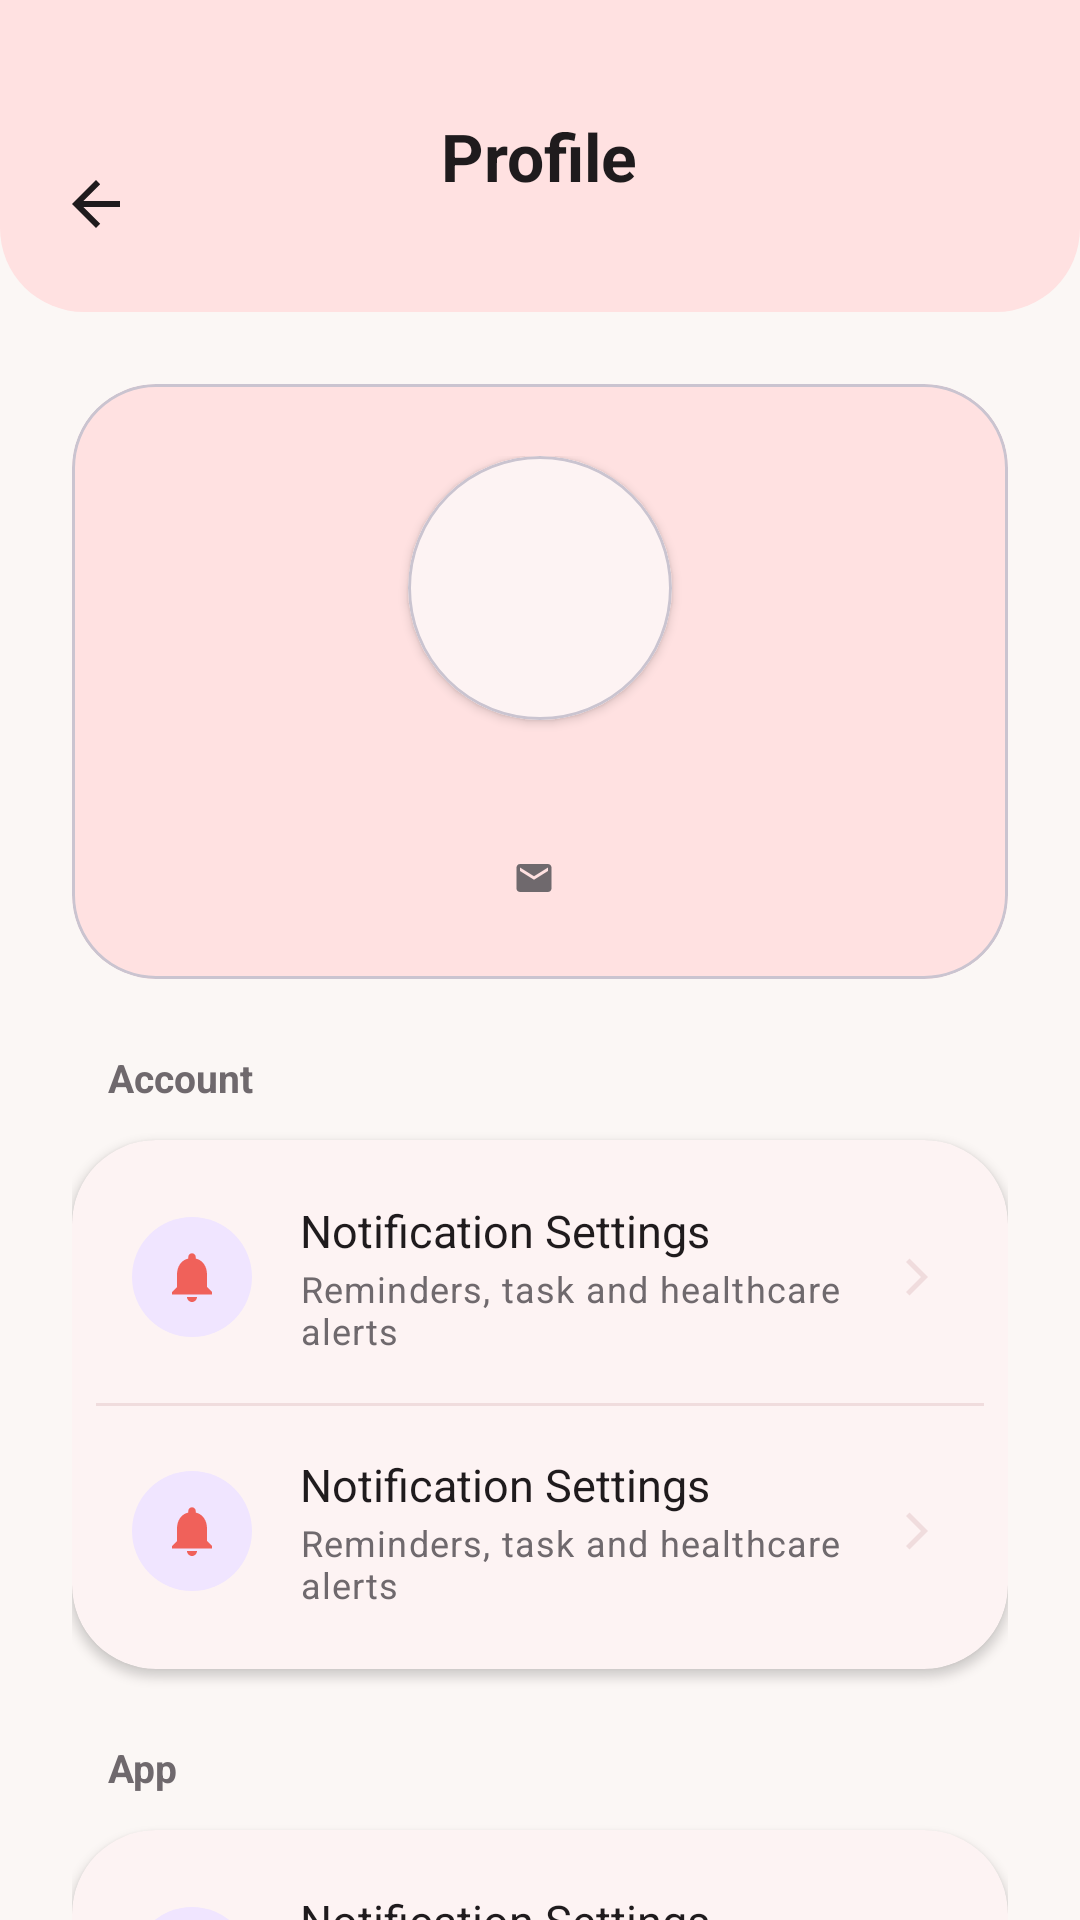

Named icons in this screenshot (1080px x 1920px) and their centers, (x,y):
Go back: (96,204)
mail: (534,878)
